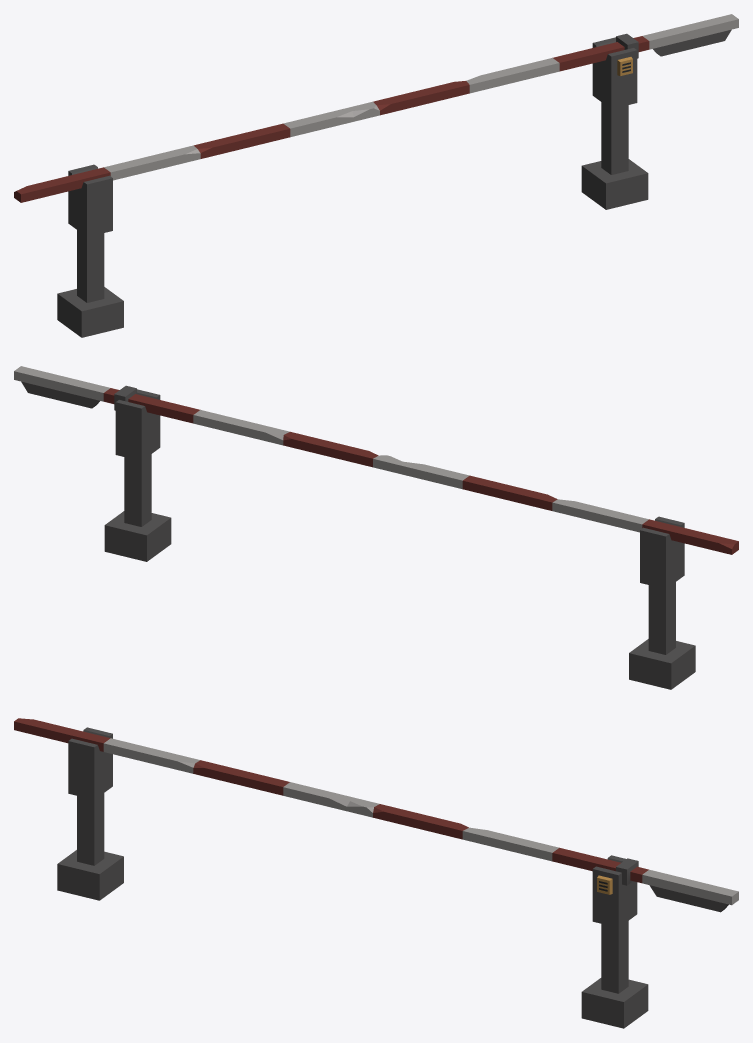
File: SM_Prop_Road_Barrier_01.fbx
3 views of the same model, one above another, from view 1: azimuth 30°, elevation 25°; view 2: azimuth 150°, elevation 25°; view 3: azimuth 330°, elevation 25° (orthographic).
Parts seen in each view (by area): view 1: SM_Prop_Road_Barrier_Arm_01, SM_Prop_Road_Barrier_01, SM_Prop_Road_Barrier_Base_01; view 2: SM_Prop_Road_Barrier_Arm_01, SM_Prop_Road_Barrier_01, SM_Prop_Road_Barrier_Base_01; view 3: SM_Prop_Road_Barrier_Arm_01, SM_Prop_Road_Barrier_Base_01, SM_Prop_Road_Barrier_01.
Boxes of the visible parts, box(x1,y1,x2,y2) form: SM_Prop_Road_Barrier_Arm_01: box(14, 14, 738, 202); SM_Prop_Road_Barrier_01: box(581, 37, 648, 209); SM_Prop_Road_Barrier_Base_01: box(57, 164, 123, 337); SM_Prop_Road_Barrier_Arm_01: box(14, 366, 738, 554); SM_Prop_Road_Barrier_01: box(104, 389, 171, 561); SM_Prop_Road_Barrier_Base_01: box(629, 516, 695, 689); SM_Prop_Road_Barrier_Arm_01: box(14, 718, 738, 912); SM_Prop_Road_Barrier_Base_01: box(57, 727, 123, 900); SM_Prop_Road_Barrier_01: box(581, 855, 648, 1028).
Bounding box in the file's own units: 659 × 135 × 38.78.
